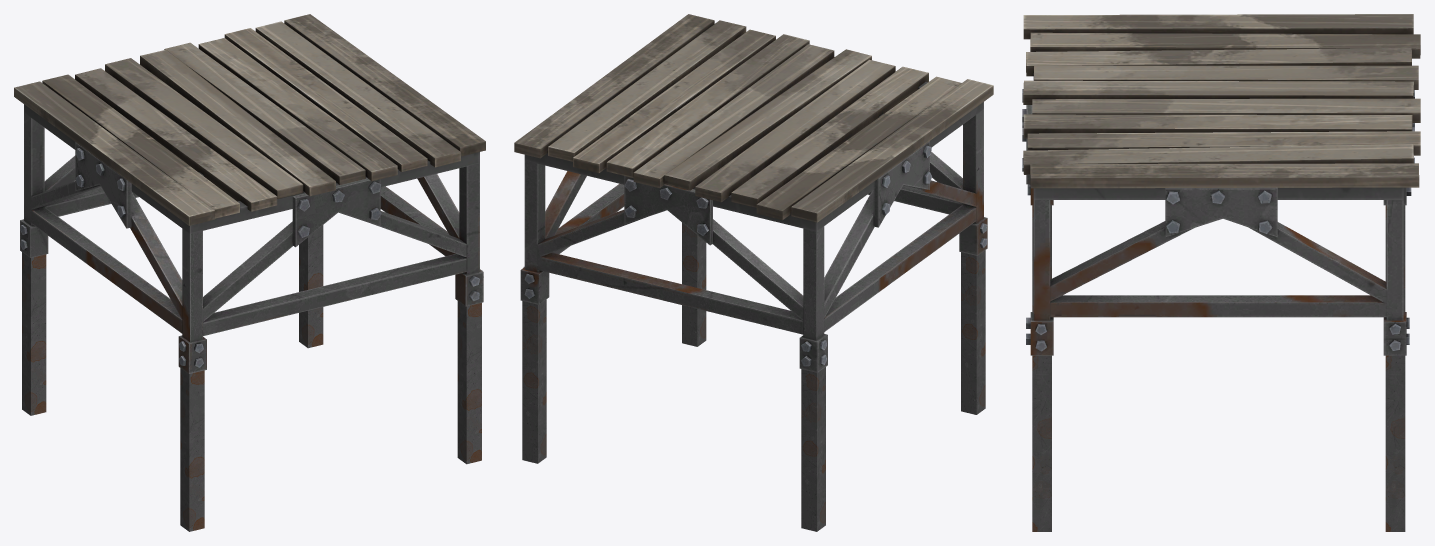
The model's file is WoodPlatform2x2.glb.
The picture shows the model from 3 angles, left to right: view 1: azimuth 30°, elevation 25°; view 2: azimuth 150°, elevation 25°; view 3: azimuth 270°, elevation 25°; orthographic projection. The views are drawn at different scales.
Visible parts, largest first — view 1: WoodPlatform2x2, 2x2scaffold, ScaleSupportBeam_Metal (2) (×4); view 2: WoodPlatform2x2, 2x2scaffold, ScaleSupportBeam_Metal (2) (×4); view 3: WoodPlatform2x2, 2x2scaffold, ScaleSupportBeam_Metal (2) (×3).
Part boxes in pixels (bbox=[...]): WoodPlatform2x2: bbox=[14, 14, 485, 233]; 2x2scaffold: bbox=[20, 113, 483, 373]; ScaleSupportBeam_Metal (2) (×4): bbox=[22, 225, 481, 531]; WoodPlatform2x2: bbox=[514, 14, 993, 231]; 2x2scaffold: bbox=[520, 109, 987, 372]; ScaleSupportBeam_Metal (2) (×4): bbox=[522, 222, 985, 531]; WoodPlatform2x2: bbox=[1023, 14, 1420, 199]; 2x2scaffold: bbox=[1022, 89, 1414, 355]; ScaleSupportBeam_Metal (2) (×3): bbox=[1032, 205, 1405, 531].
Size of the model in its own units: 2.01 by 2.02 by 2.04.
Materials: 3 (3 with a texture image).
